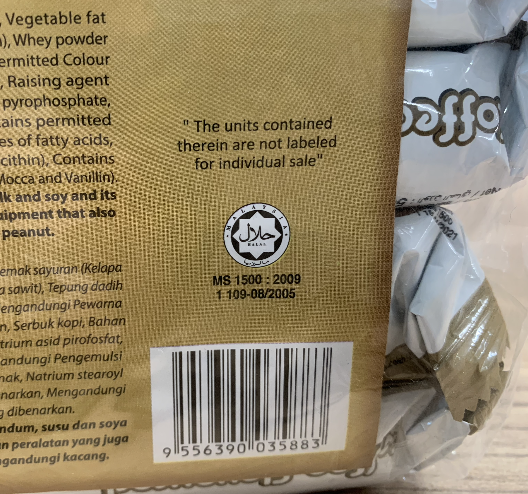halal: (236, 217, 278, 255)
